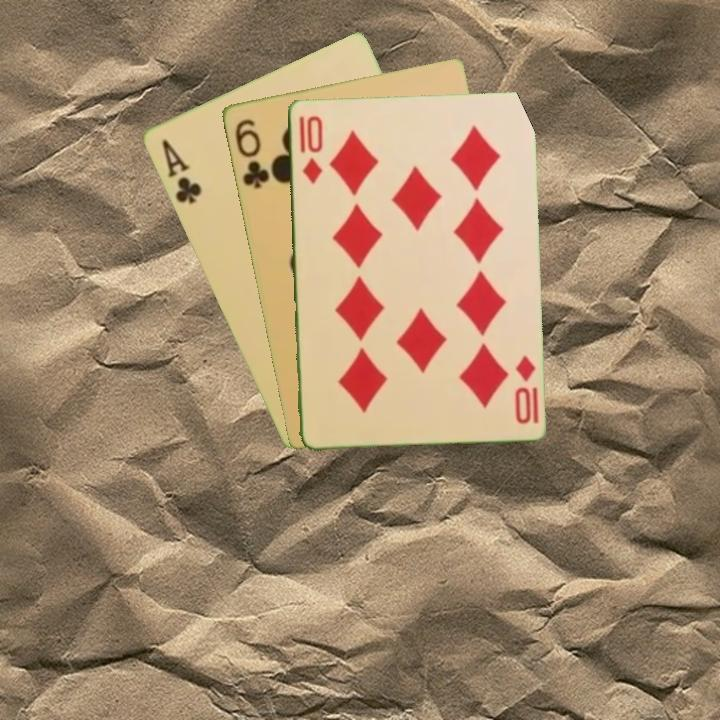10d: (295, 112, 325, 186), (510, 351, 538, 426)
6c: (231, 115, 272, 191)
Ac: (157, 135, 204, 207)
